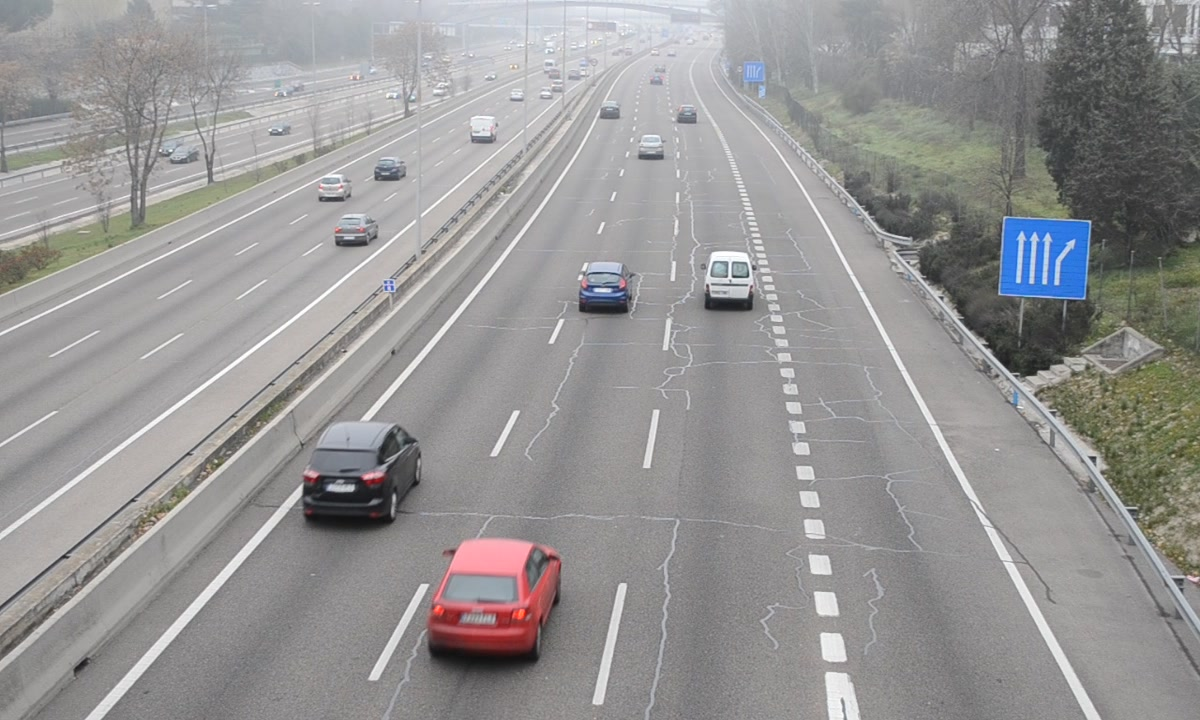car: (428, 541, 562, 656), (303, 423, 420, 521), (578, 261, 633, 309), (637, 133, 665, 159), (674, 103, 697, 125)
van: (706, 251, 754, 309)
